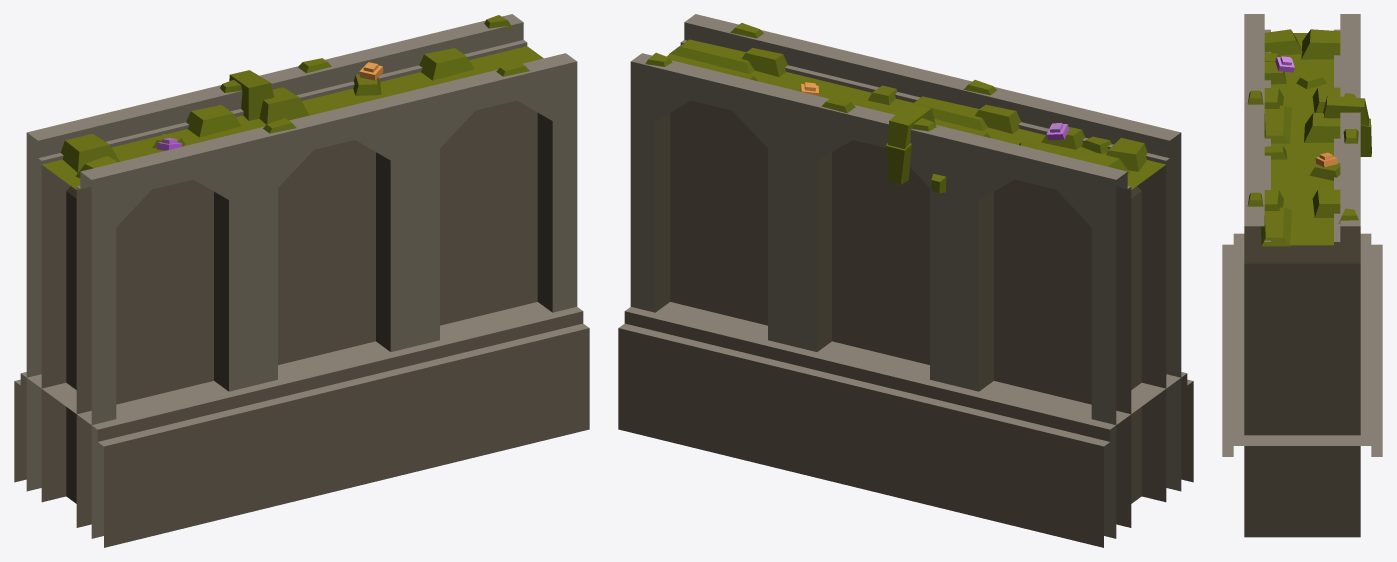
The model's file is SF_Bld_Elven_Castle_Wall_01.fbx.
The picture shows the model from 3 angles, left to right: view 1: azimuth 30°, elevation 25°; view 2: azimuth 150°, elevation 25°; view 3: azimuth 270°, elevation 25°; orthographic projection. The views are drawn at different scales.
Parts seen in each view (by area): view 1: SF_Bld_Elven_Castle_Wall_01; view 2: SF_Bld_Elven_Castle_Wall_01; view 3: SF_Bld_Elven_Castle_Wall_01.
Boxes of the visible parts, x1,y1,x2,y2 form: SF_Bld_Elven_Castle_Wall_01: (14,14,589,547); SF_Bld_Elven_Castle_Wall_01: (618,14,1193,547); SF_Bld_Elven_Castle_Wall_01: (1222,14,1382,537).
Size of the model in its own units: 15.04 by 10.85 by 4.79.
